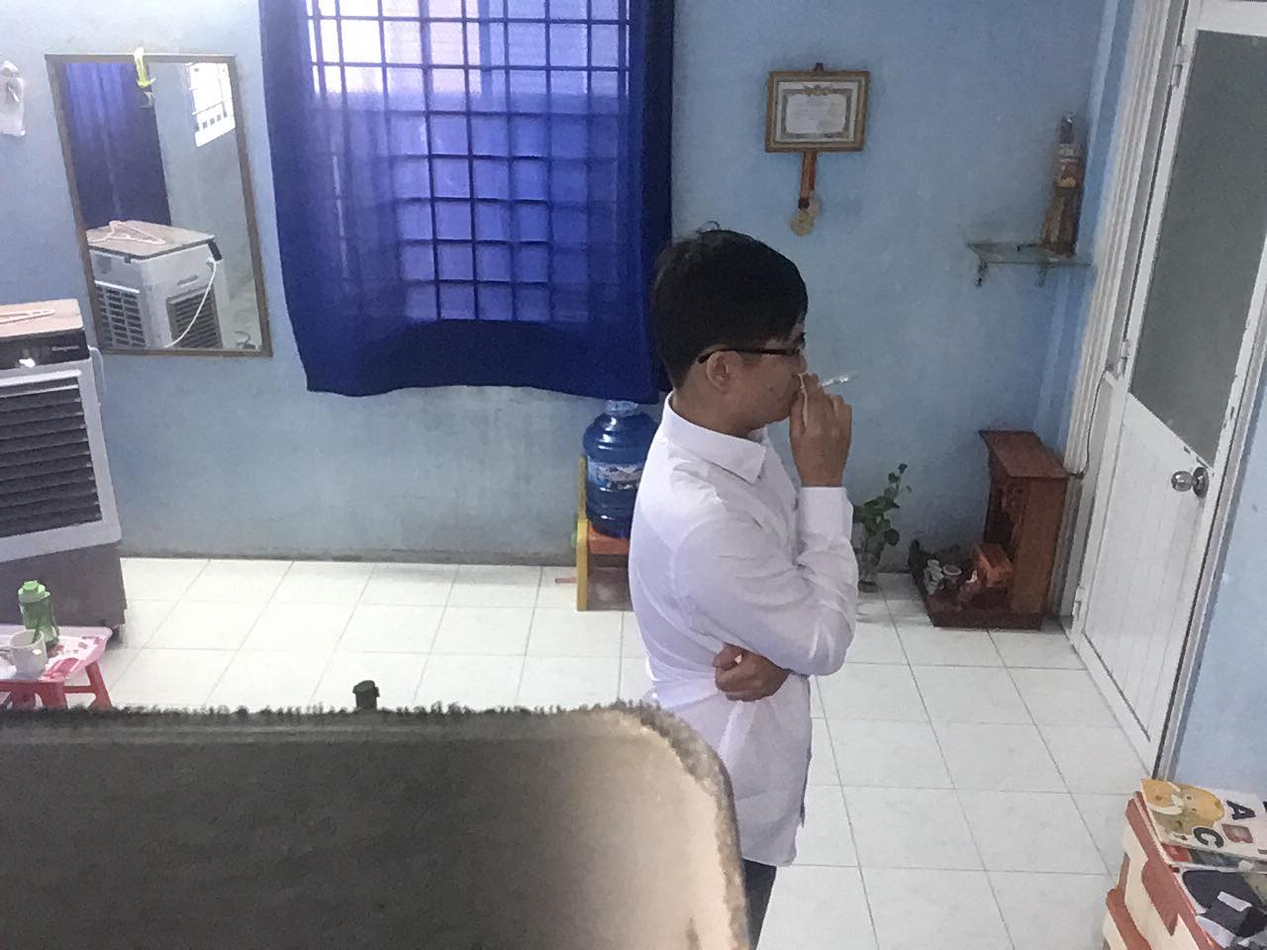cigarette: (815, 355, 873, 398)
person: (612, 216, 867, 791)
